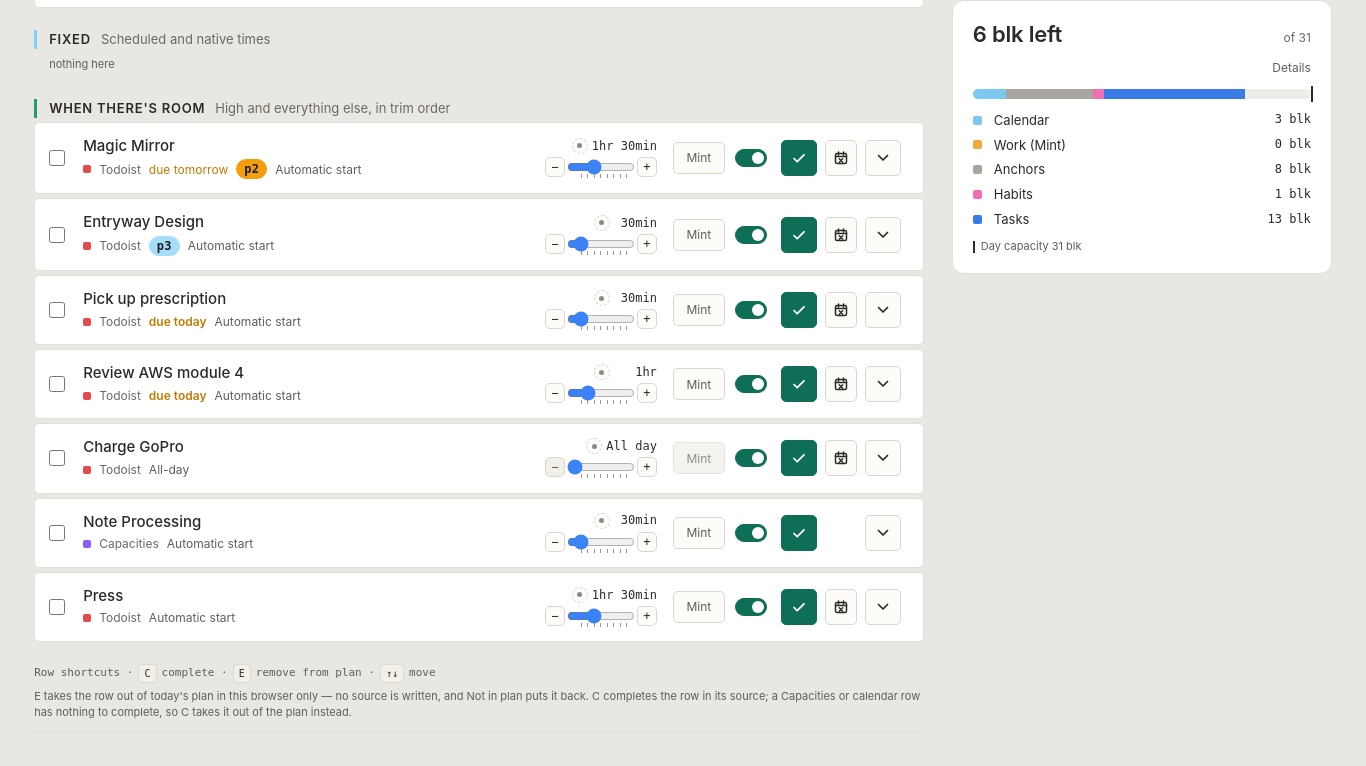
it: F7 integration: the row and its expanded panel › keeps line 2 to the Source menu, because edits apply at once
The width and height of the screenshot is (1366, 766).
(page scrolled)
Click the 7th button named "Expand" at (883, 607), box [865,589,901,625]
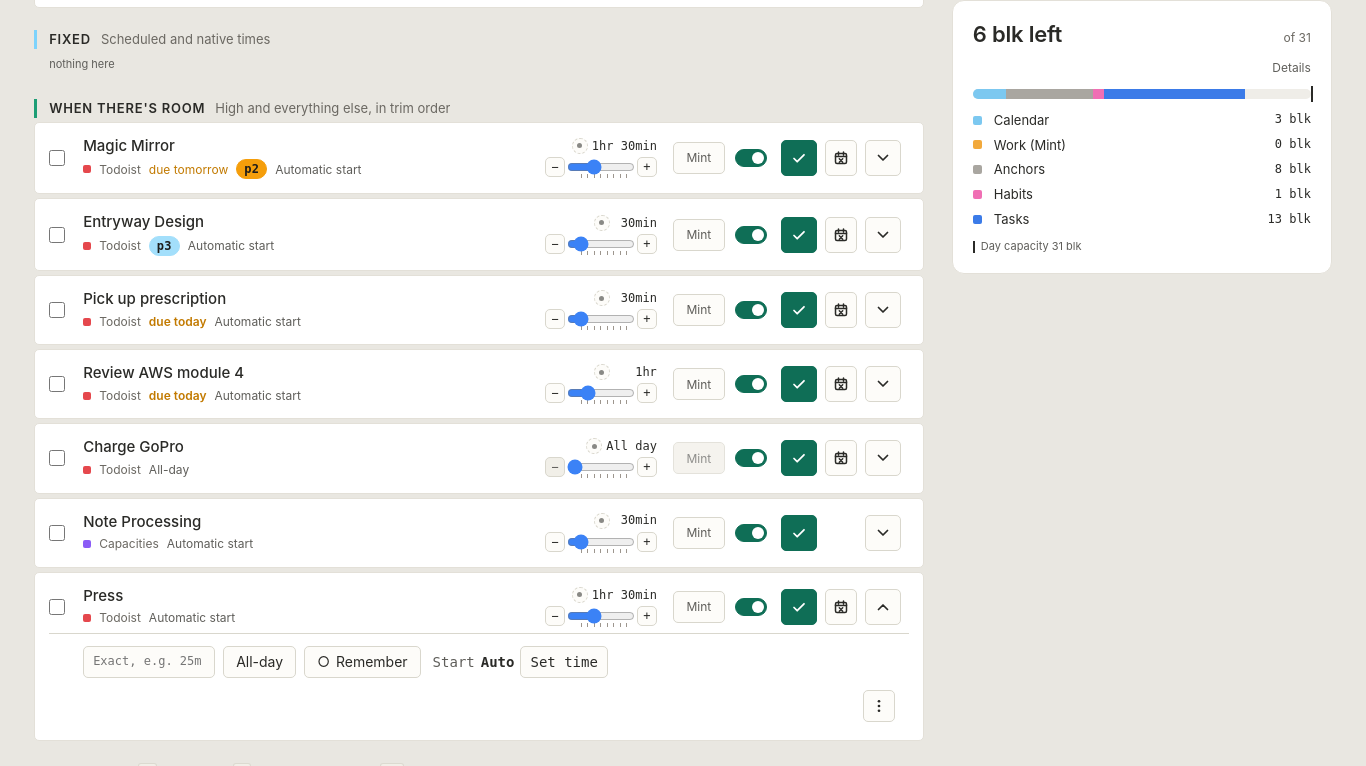
Type "2h" into the field named "Exact minutes" at (149, 662), box [83,646,215,678]
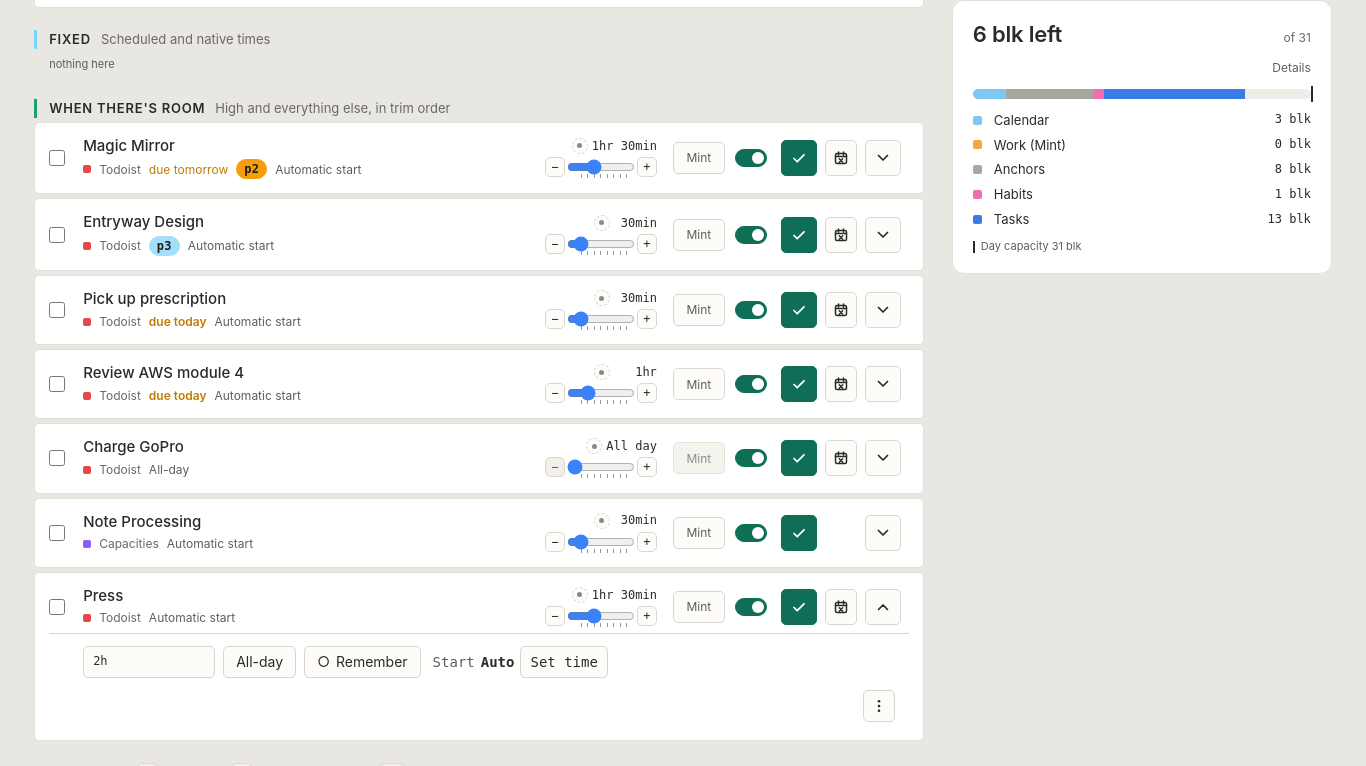
Press Enter in the field named "Exact minutes", box [83,646,215,678]
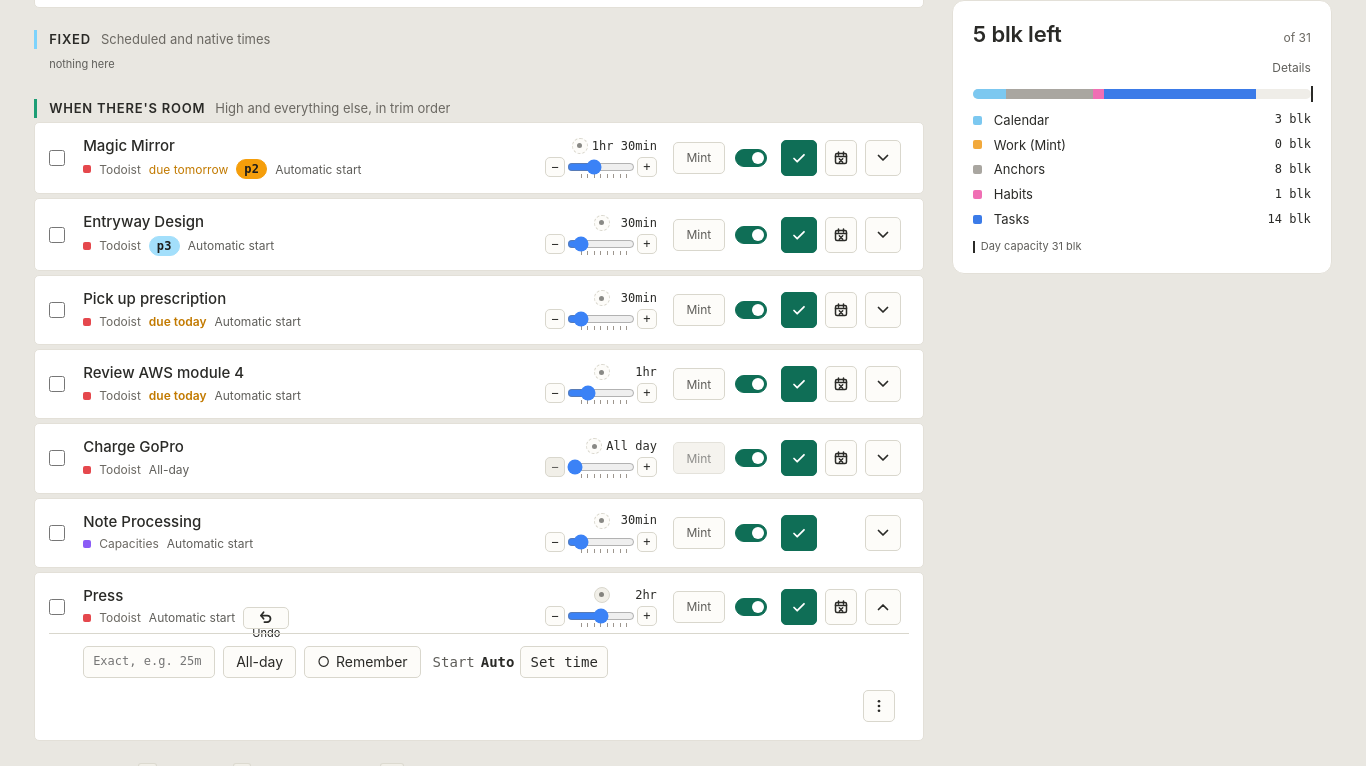
Check: the button with aria-label "Undo last change to Press" is shown, box [243,607,289,629]
